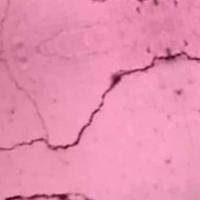crack: (1, 48, 199, 169)
